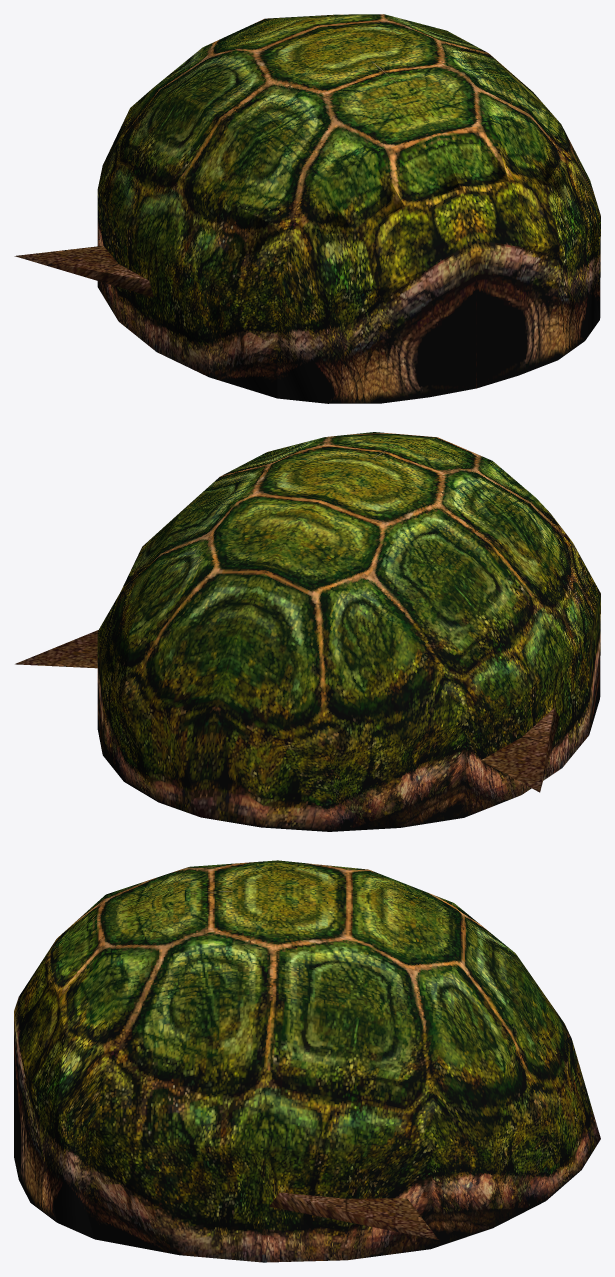
Rendered from Turtle.obj.
3 views of the same model, one above another, from view 1: azimuth 30°, elevation 25°; view 2: azimuth 150°, elevation 25°; view 3: azimuth 270°, elevation 25° (orthographic). The views are drawn at different scales.
Bounding box in the file's own units: 38.9 × 20.22 × 35.32.
Materials: 2 (2 with a texture image).
